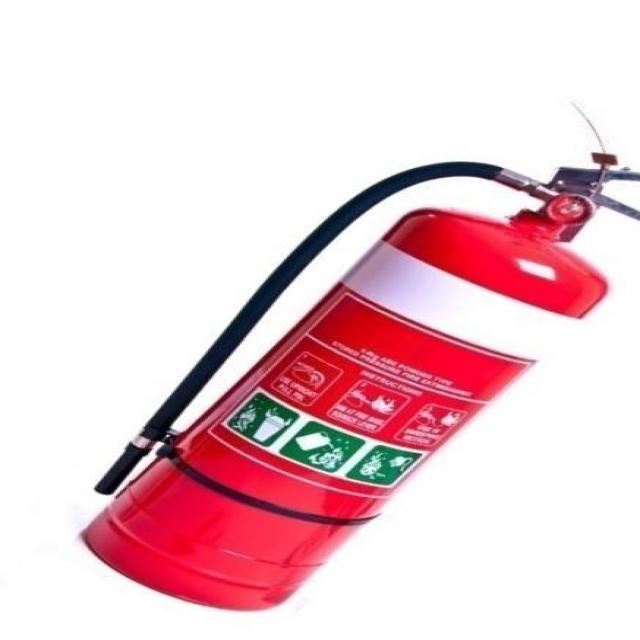fire_extinguisher: (71, 145, 638, 618)
